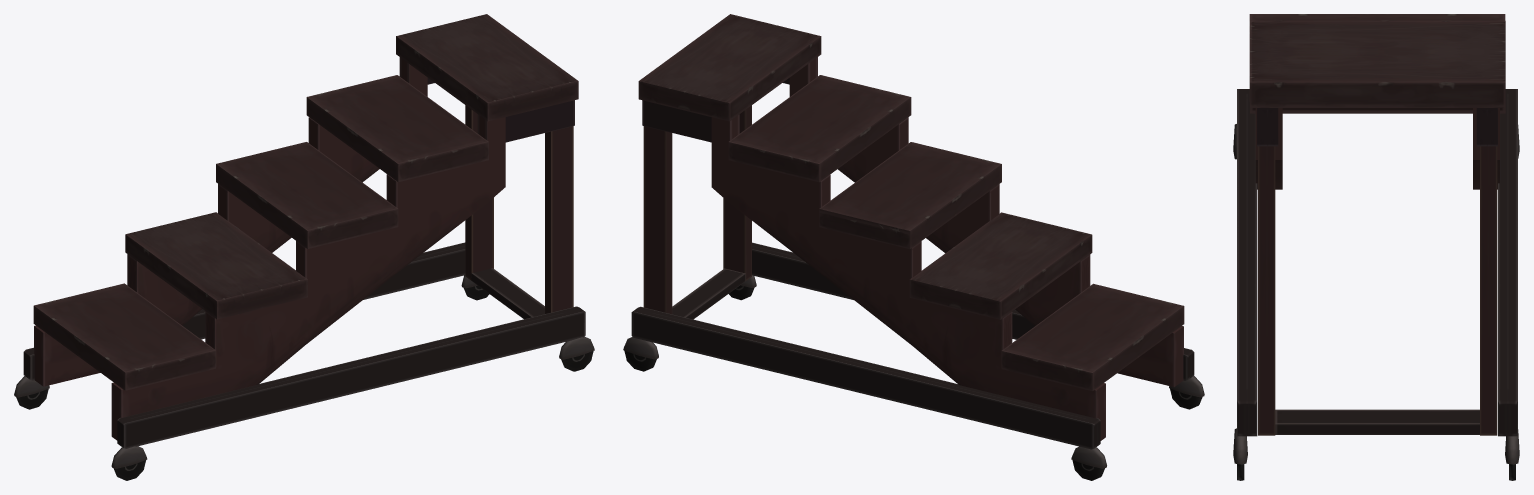
The model's file is Wheely Stairs.fbx.
3 renders of one model, left to right at view 1: azimuth 30°, elevation 25°; view 2: azimuth 150°, elevation 25°; view 3: azimuth 270°, elevation 25°, orthographic. The views are drawn at different scales.
Visible parts, largest first — view 1: Stairsupport1, WoodPlank9, Stair_wheels14, Stair_wheels12, Stair_wheels15, Stair_wheels16, Stair_wheels10, Stairsupport2, WoodPlank11, WoodPlank14, WoodPlank15, Stair_wheels8 (+1 smaller); view 2: Stairsupport2, WoodPlank14, Stair_wheels12, Stair_wheels16, Stair_wheels15, Stair_wheels10, Stair_wheels14, Stairsupport1, WoodPlank15, WoodPlank9, WoodPlank11, Stair_wheels13 (+1 smaller); view 3: Stair_wheels16, WoodPlank9, WoodPlank14, WoodPlank13, WoodPlank11, WoodPlank15, Stair_wheels15, Stair_wheels12, Stair_wheels8, Stair_wheels13, Stairsupport1, Stairsupport2 (+2 smaller).
Part boxes in pixels (box(x1,y1,x2,y2)): Stairsupport1: box(111, 114, 505, 440); WoodPlank9: box(117, 306, 585, 448); Stair_wheels14: box(216, 142, 398, 248); Stair_wheels12: box(33, 283, 215, 390); Stair_wheels15: box(306, 75, 488, 182); Stair_wheels16: box(396, 14, 578, 121); Stair_wheels10: box(125, 212, 307, 319); Stairsupport2: box(34, 57, 427, 386); WoodPlank11: box(545, 126, 573, 313); WoodPlank14: box(23, 242, 465, 380); WoodPlank15: box(465, 105, 493, 280); Stair_wheels8: box(505, 100, 574, 142); Stairsupport2: box(711, 114, 1105, 440); WoodPlank14: box(631, 306, 1100, 449); Stair_wheels12: box(1001, 283, 1184, 391); Stair_wheels16: box(638, 14, 821, 121); Stair_wheels15: box(728, 75, 911, 182); Stair_wheels10: box(909, 212, 1092, 319); Stair_wheels14: box(819, 142, 1001, 249); Stairsupport1: box(789, 57, 1183, 387); WoodPlank15: box(643, 126, 672, 314); WoodPlank9: box(752, 242, 1194, 380); WoodPlank11: box(723, 105, 751, 280); Stair_wheels13: box(642, 100, 711, 142); Stair_wheels16: box(1250, 20, 1505, 107); WoodPlank9: box(1237, 89, 1257, 436); WoodPlank14: box(1498, 89, 1517, 436); WoodPlank13: box(1275, 409, 1479, 434); WoodPlank11: box(1258, 146, 1275, 435); WoodPlank15: box(1480, 146, 1497, 435); Stair_wheels15: box(1249, 14, 1505, 100); Stair_wheels12: box(1250, 108, 1505, 113); Stair_wheels8: box(1257, 108, 1278, 146); Stair_wheels13: box(1476, 108, 1497, 146); Stairsupport1: box(1255, 108, 1282, 189); Stairsupport2: box(1473, 108, 1499, 189).
Bounding box in the file's own units: 28.29 × 16.01 × 10.43.
